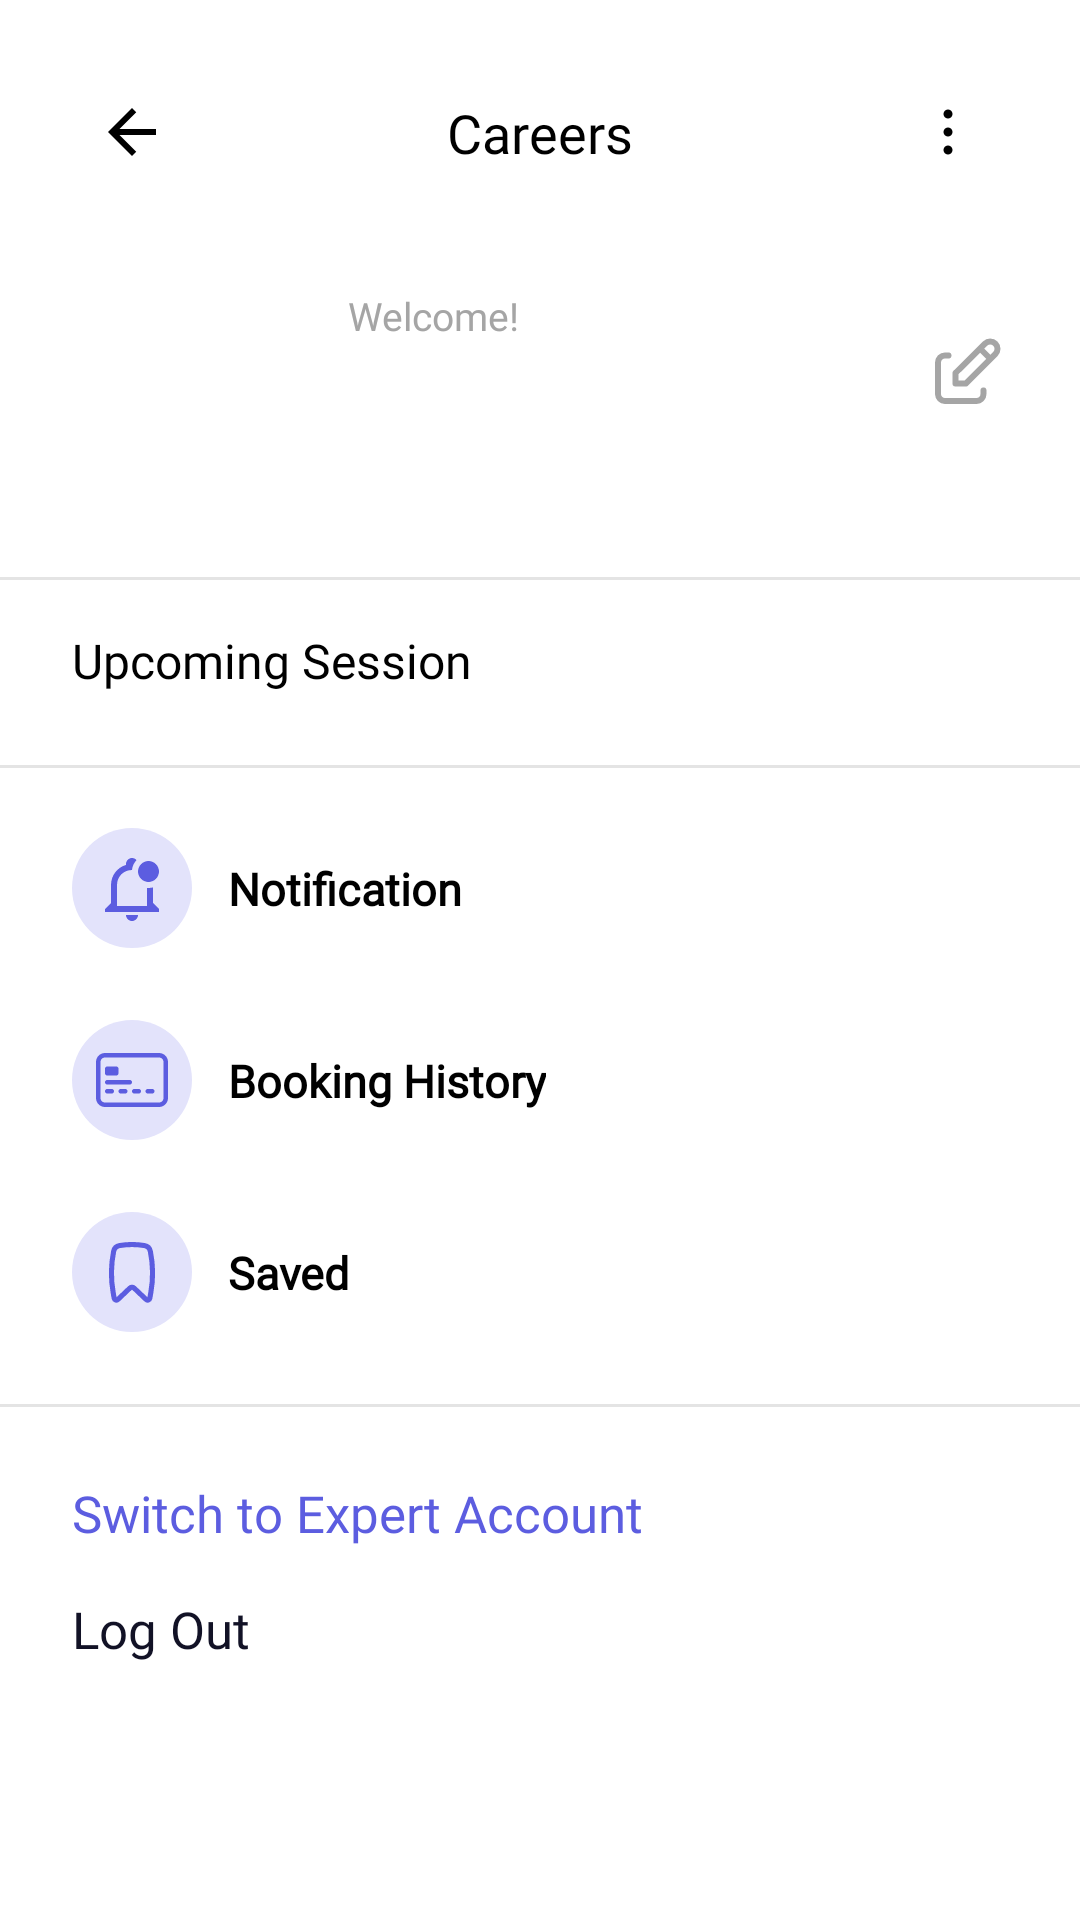

Where to tap for icons on this 1080 × 1920 app screen, as (x,y):
arrow back: (132,132)
edit profile: (968,371)
profile options: (948,132)
